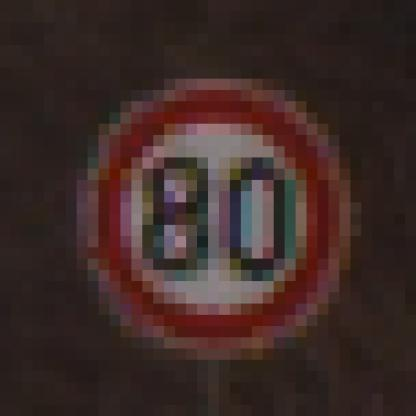Speed Limit -80-: (66, 84, 349, 353)
